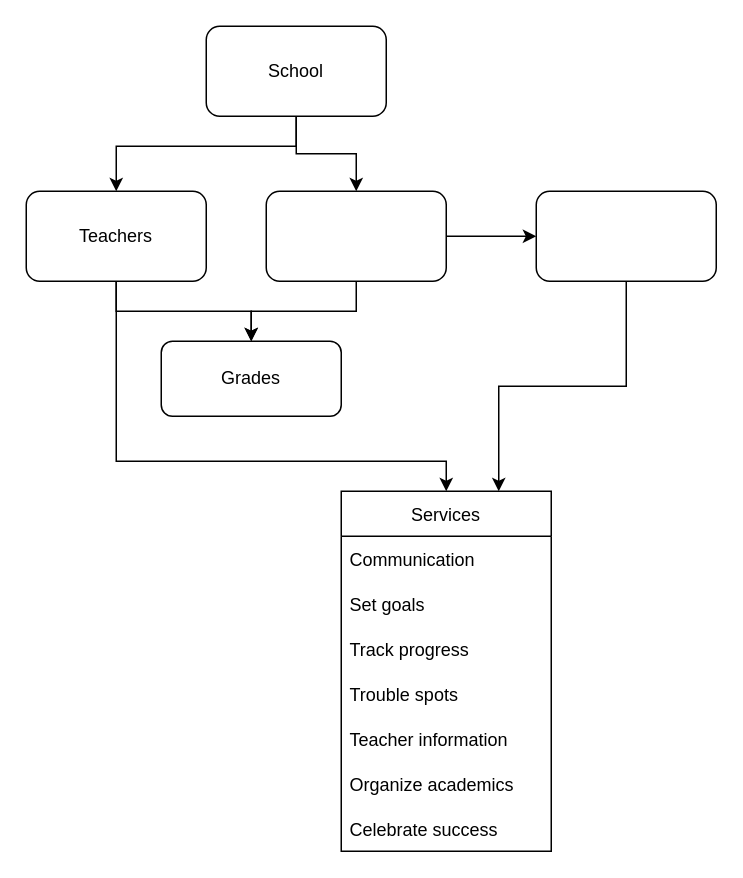
This 743x878 diagram has some shape labels left out. Here are the shapes that lost their labels. From the top down, the centre of each, then its label:
At point 355,235: "Students".
At point 625,235: "Parents".
